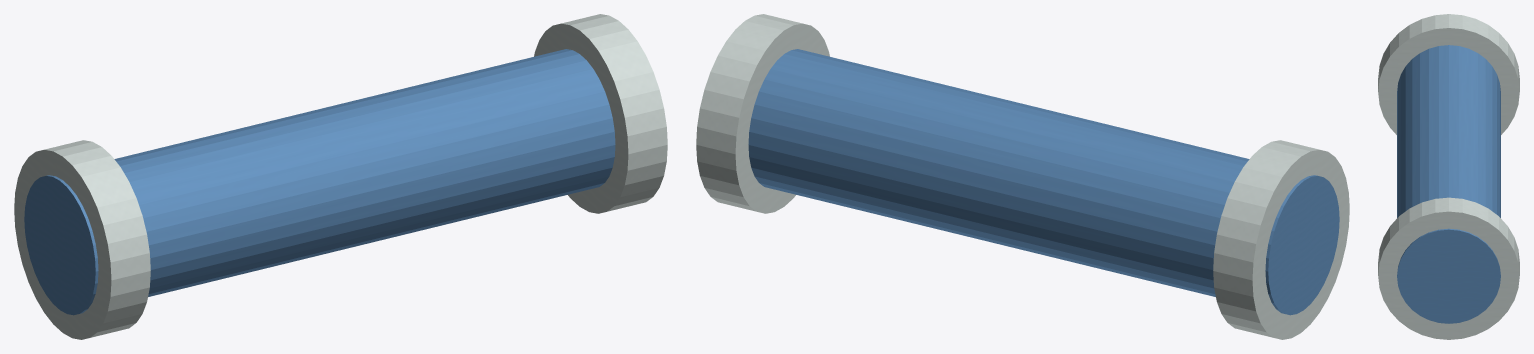
The model's file is pipe.glb.
The picture shows the model from 3 angles, left to right: view 1: azimuth 30°, elevation 25°; view 2: azimuth 150°, elevation 25°; view 3: azimuth 270°, elevation 25°; orthographic projection. The views are drawn at different scales.
Parts seen in each view (by area): view 1: Pipe_Body, Pipe_Collar, Pipe_Collar.001; view 2: Pipe_Body, Pipe_Collar, Pipe_Collar.001; view 3: Pipe_Body, Pipe_Collar.001, Pipe_Collar.
Part boxes in pixels (left/top/right/bottom): Pipe_Body: left=24, top=49, right=615, bottom=315; Pipe_Collar: left=14, top=140, right=150, bottom=339; Pipe_Collar.001: left=534, top=14, right=667, bottom=213; Pipe_Body: left=748, top=49, right=1339, bottom=315; Pipe_Collar: left=1213, top=140, right=1349, bottom=339; Pipe_Collar.001: left=696, top=14, right=829, bottom=213; Pipe_Body: left=1397, top=45, right=1500, bottom=323; Pipe_Collar.001: left=1378, top=197, right=1519, bottom=339; Pipe_Collar: left=1378, top=14, right=1519, bottom=134.
Size of the model in its own units: 1 by 0.3 by 0.3.
Materials: 2 (2 with a texture image).
